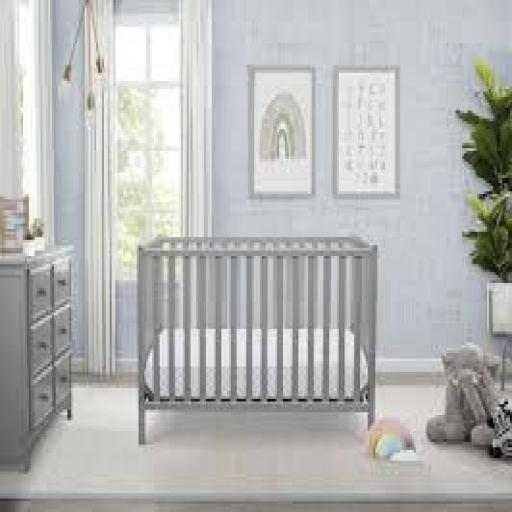crib: (137, 234, 377, 448)
